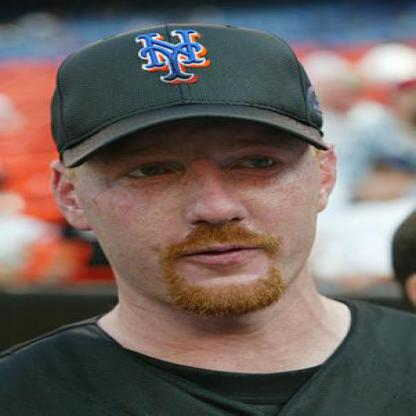face: (77, 34, 323, 322)
